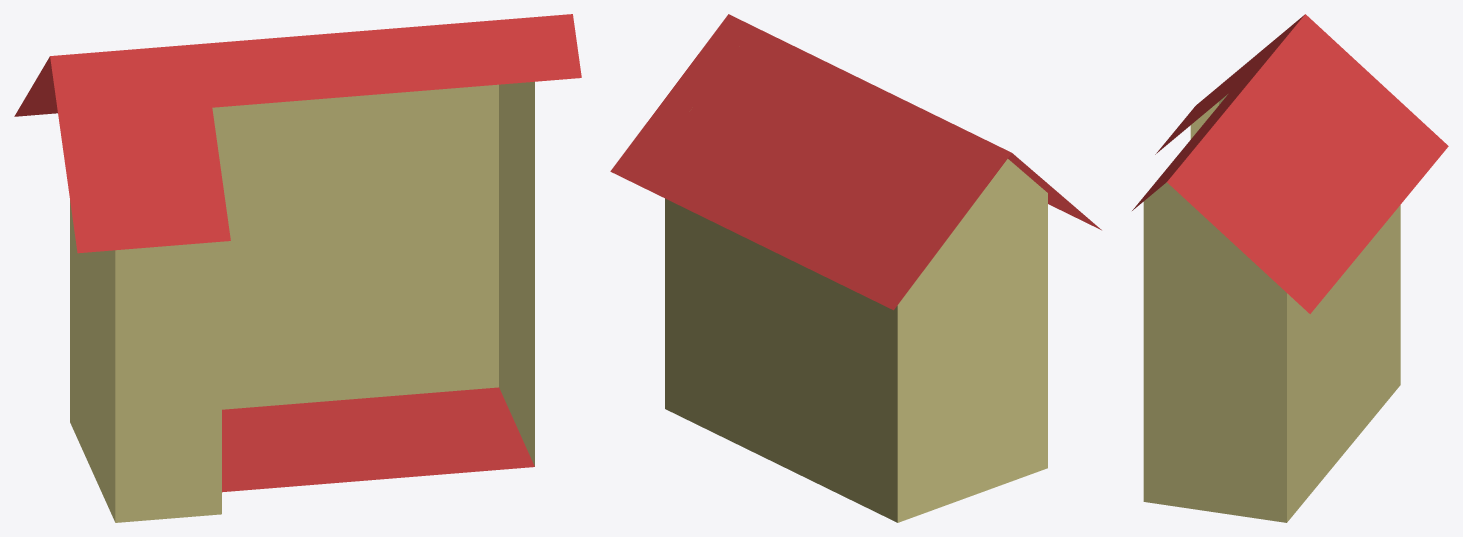
The picture shows the model from 3 angles, left to right: view 1: azimuth 30°, elevation 25°; view 2: azimuth 150°, elevation 25°; view 3: azimuth 270°, elevation 25°; orthographic projection. The views are drawn at different scales.
Size of the model in its own units: 12.88 by 8.42 by 9.94.
